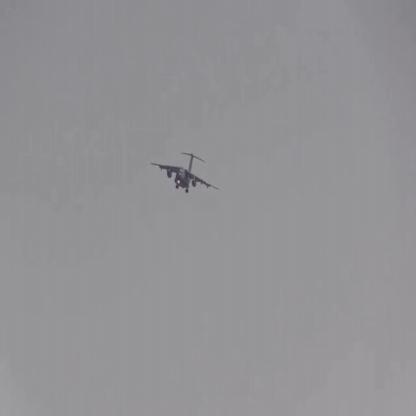CIV_Plane: (147, 146, 222, 196)
